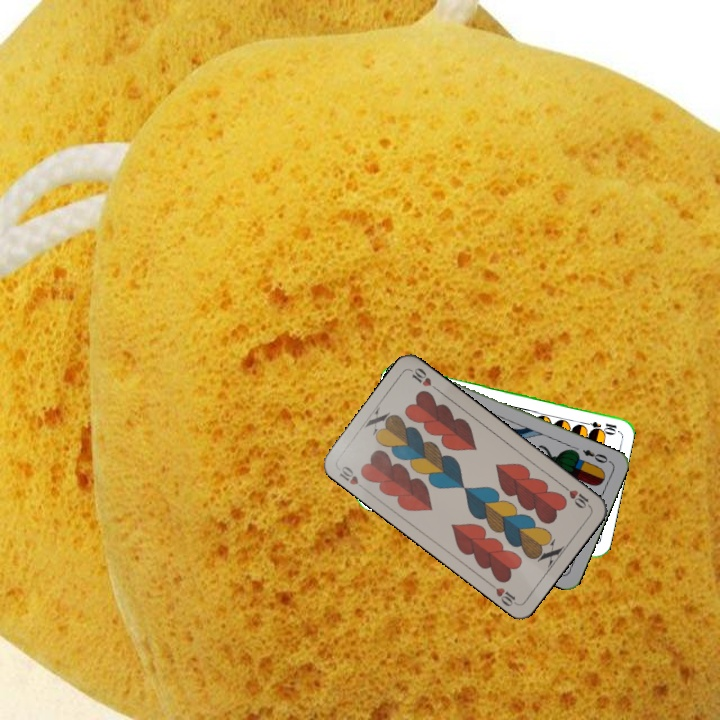E10: (579, 418, 619, 435)
EO: (579, 445, 610, 466)
H10: (335, 462, 369, 493), (558, 481, 593, 511)
